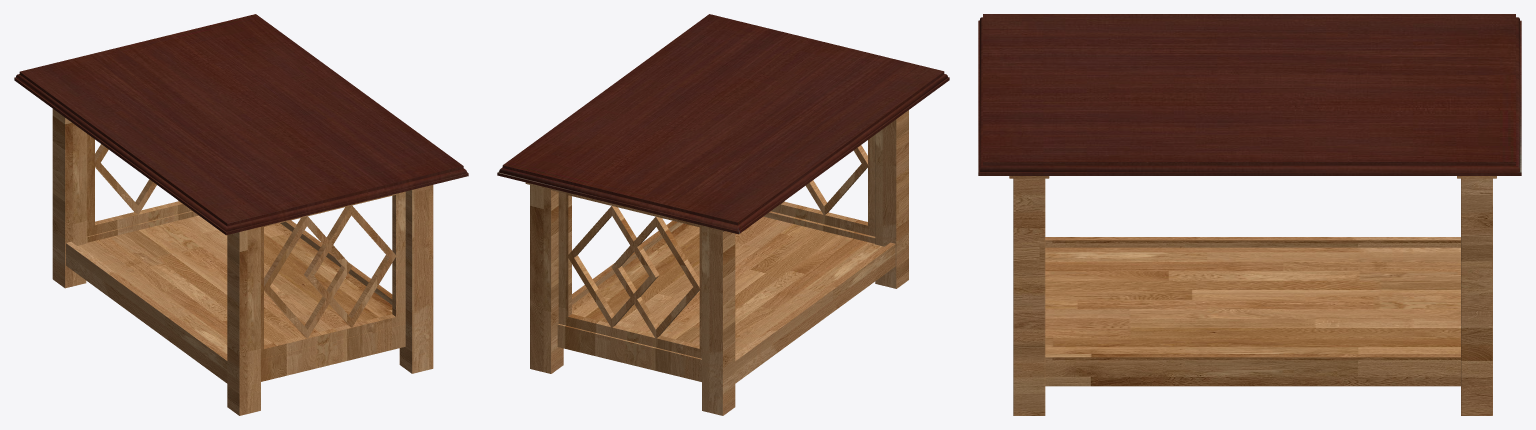
File: table_2.glb
3 views of the same model, side by side, from view 1: azimuth 30°, elevation 25°; view 2: azimuth 150°, elevation 25°; view 3: azimuth 270°, elevation 25° (orthographic). The views are drawn at different scales.
Visible parts, largest first — view 1: polySurface12, polySurface8; view 2: polySurface12, polySurface8; view 3: polySurface8, polySurface12.
Boxes of the visible parts, box(x1,y1,x2,y2) form: polySurface12: box(52, 109, 433, 415); polySurface8: box(14, 14, 468, 235); polySurface12: box(525, 110, 908, 415); polySurface8: box(497, 14, 949, 234); polySurface8: box(978, 14, 1521, 175); polySurface12: box(1009, 176, 1496, 415).
Size of the model in its own units: 0.5715 by 0.4653 by 0.8636.
Materials: 2 (2 with a texture image).
